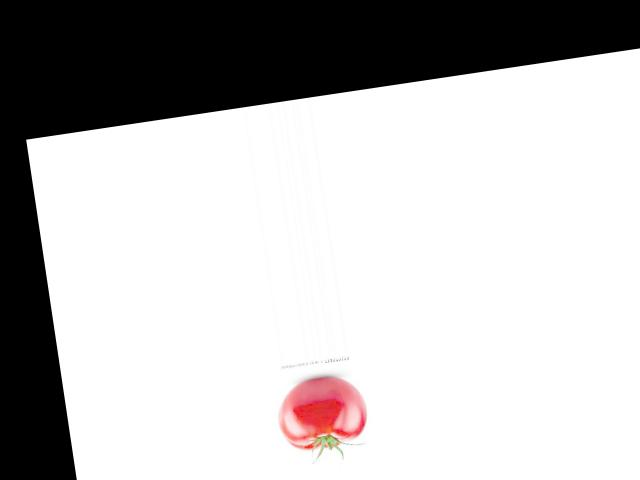tomato: (273, 372, 371, 453)
